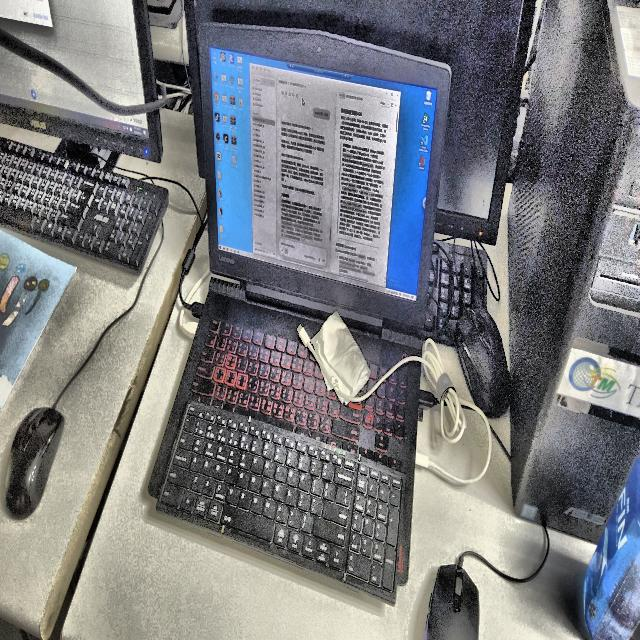laptop: (148, 23, 451, 604)
switchboard: (5, 408, 64, 519), (456, 319, 508, 418), (425, 565, 479, 640)
